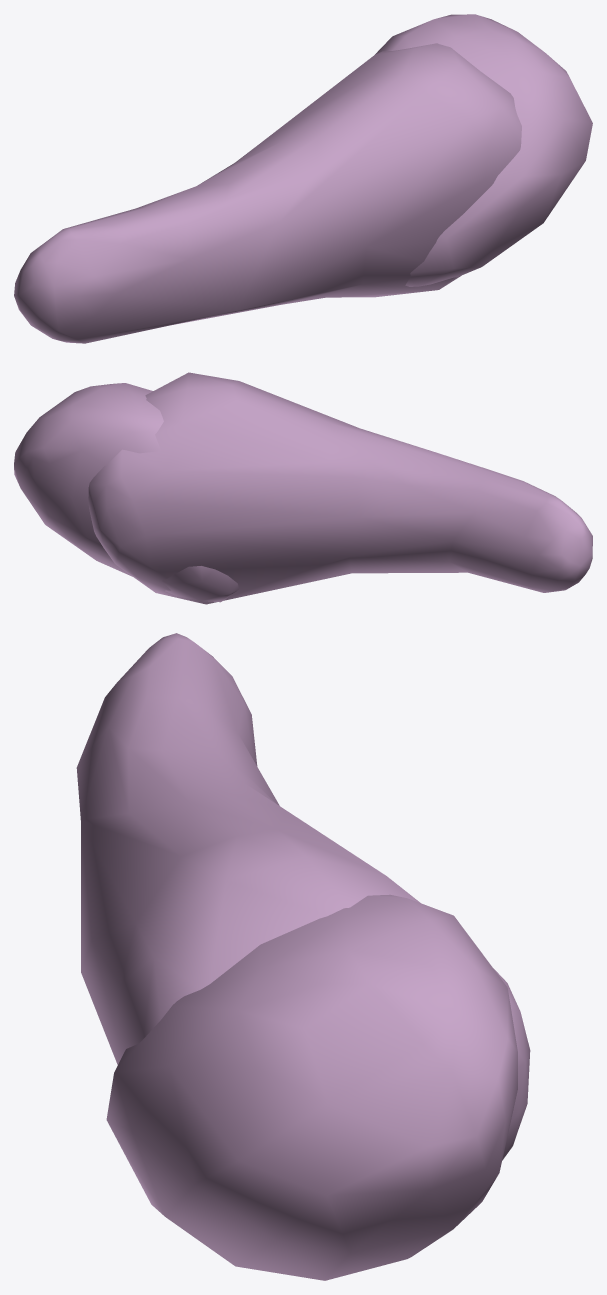
The picture shows the model from 3 angles, top to bottom: view 1: azimuth 30°, elevation 25°; view 2: azimuth 150°, elevation 25°; view 3: azimuth 270°, elevation 25°; orthographic projection. The views are drawn at different scales.
Parts seen in each view (by area): view 1: 右侧上丘; view 2: 右侧上丘; view 3: 右侧上丘.
Boxes of the visible parts, x1=… form: 右侧上丘: x1=14, y1=14, x2=592, y2=343; 右侧上丘: x1=14, y1=372, x2=592, y2=604; 右侧上丘: x1=76, y1=633, x2=530, y2=1280.
Size of the model in its own units: 0.0251 by 0.00953 by 0.00941.
